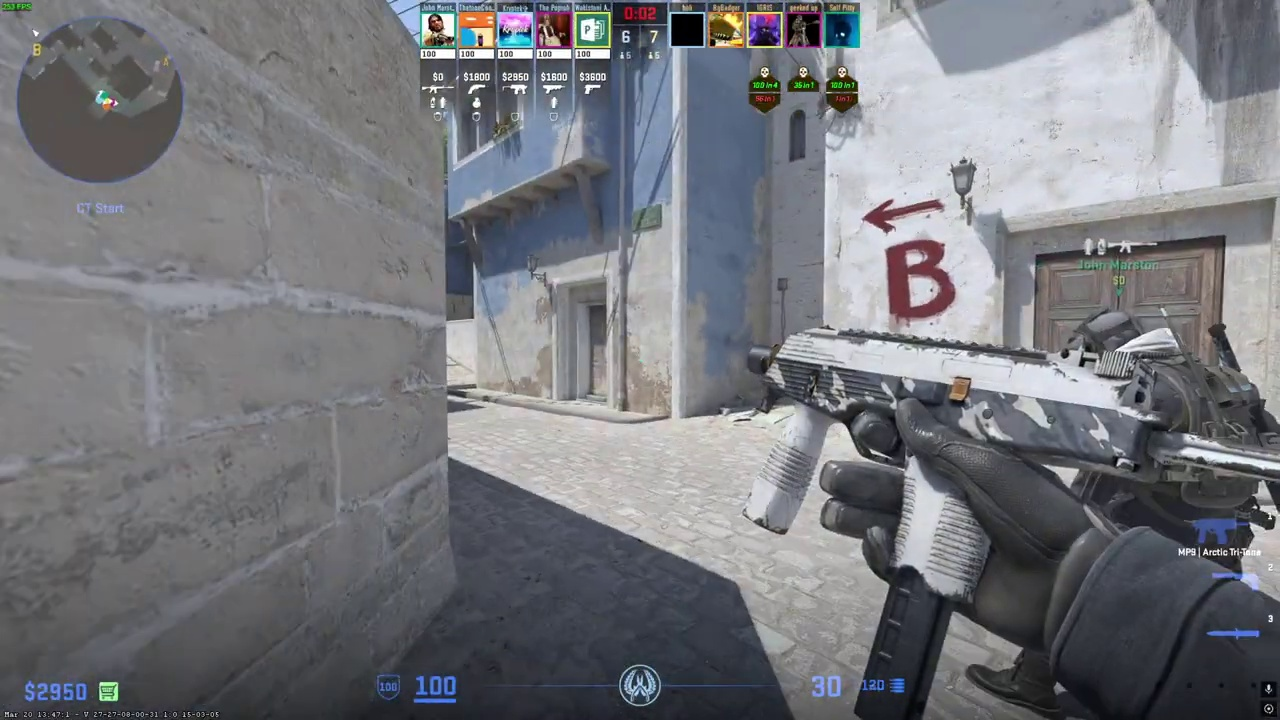CT: (1065, 306, 1267, 561)
